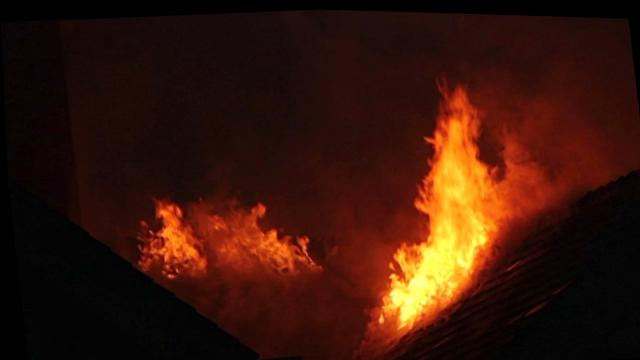fire: (339, 62, 557, 329), (131, 177, 301, 292)
